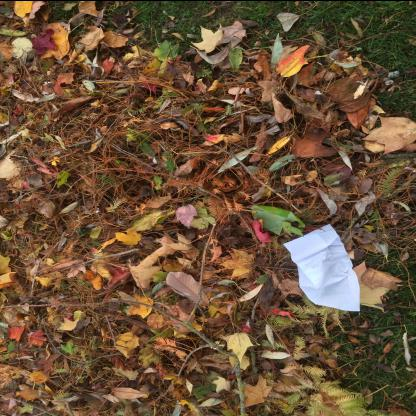kagit: (283, 224, 360, 310)
